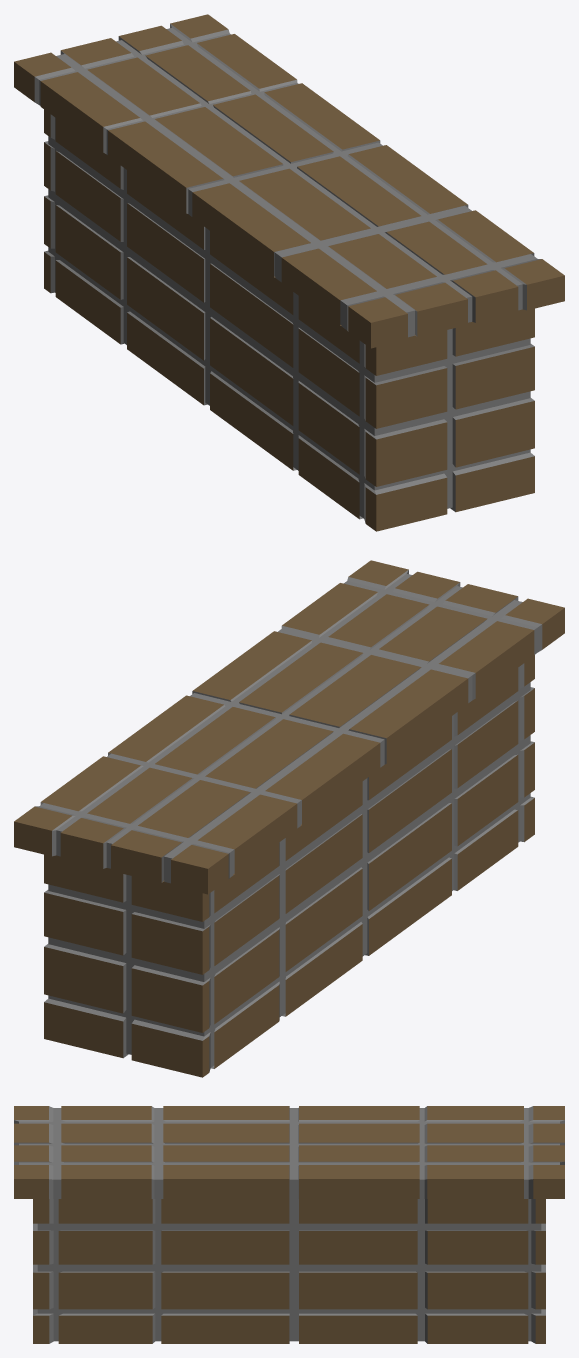
The model's file is Brick.fbx.
3 renders of one model, top to bottom at view 1: azimuth 30°, elevation 25°; view 2: azimuth 150°, elevation 25°; view 3: azimuth 270°, elevation 25°, orthographic. The views are drawn at different scales.
Visible parts, largest first — view 1: Beige Brick Half Wall; view 2: Beige Brick Half Wall; view 3: Beige Brick Half Wall.
Boxes of the visible parts, <box> form: Beige Brick Half Wall: <box>14,14,564,531</box>; Beige Brick Half Wall: <box>14,560,564,1077</box>; Beige Brick Half Wall: <box>14,1106,564,1343</box>.
Bounding box in the file's own units: 6.87 × 7.51 × 21.88.
